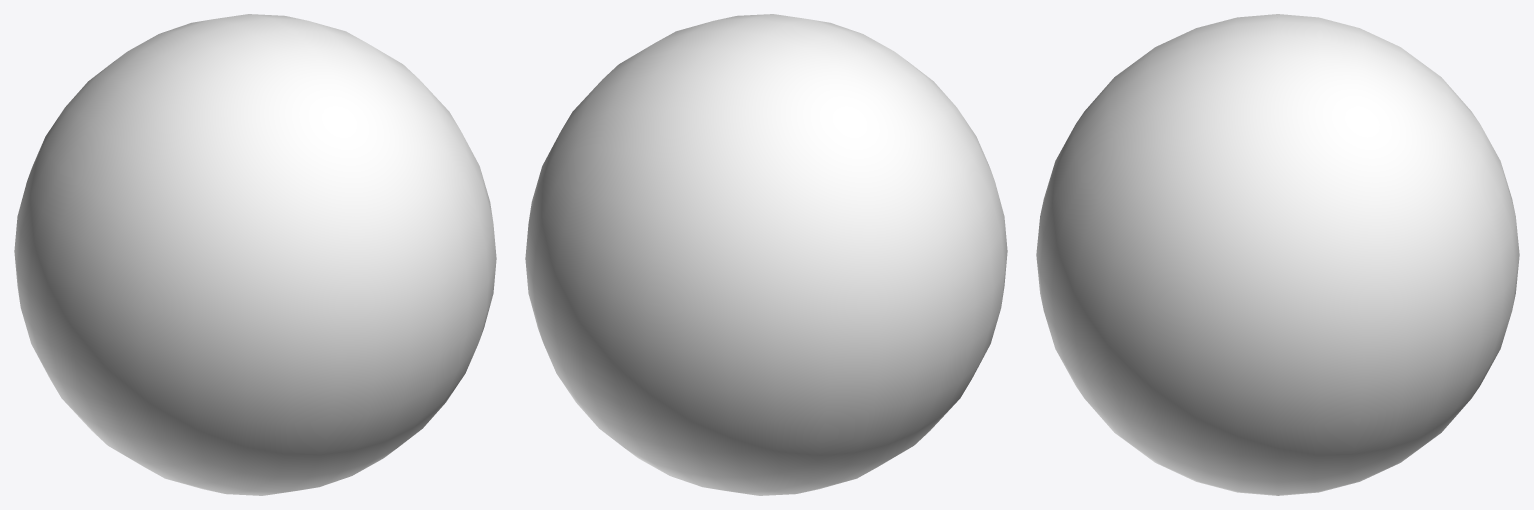
File: alpha.fbx
3 renders of one model, left to right at view 1: azimuth 30°, elevation 25°; view 2: azimuth 150°, elevation 25°; view 3: azimuth 270°, elevation 25°, orthographic.
Visible parts, largest first — view 1: Roundcube.001; view 2: Roundcube.001; view 3: Roundcube.001.
Boxes of the visible parts, <box> form: Roundcube.001: <box>14,14,496,495</box>; Roundcube.001: <box>525,14,1007,495</box>; Roundcube.001: <box>1036,14,1519,495</box>.
Bounding box in the file's own units: 3.06 × 3.06 × 3.06.
1 material, 1 textured.
